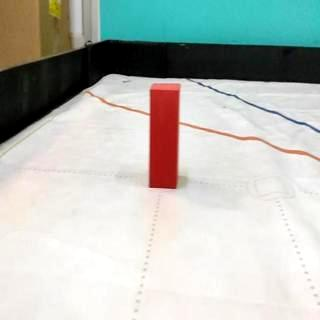redbox: (151, 83, 178, 188)
